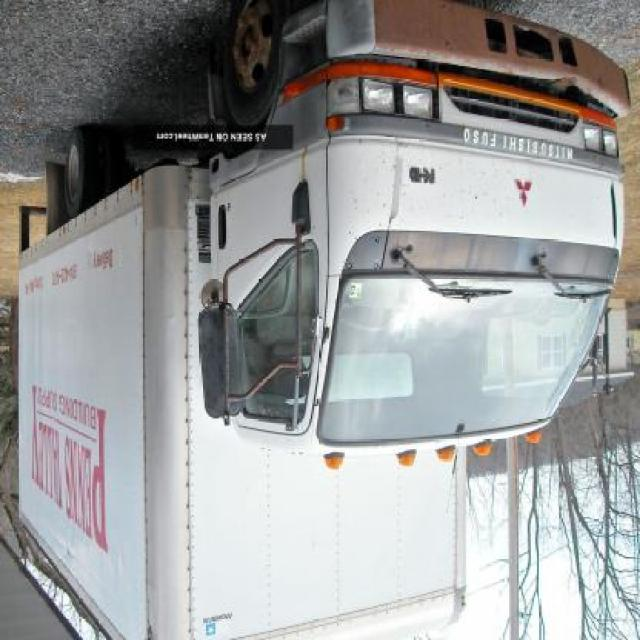truck: (16, 1, 640, 638)
